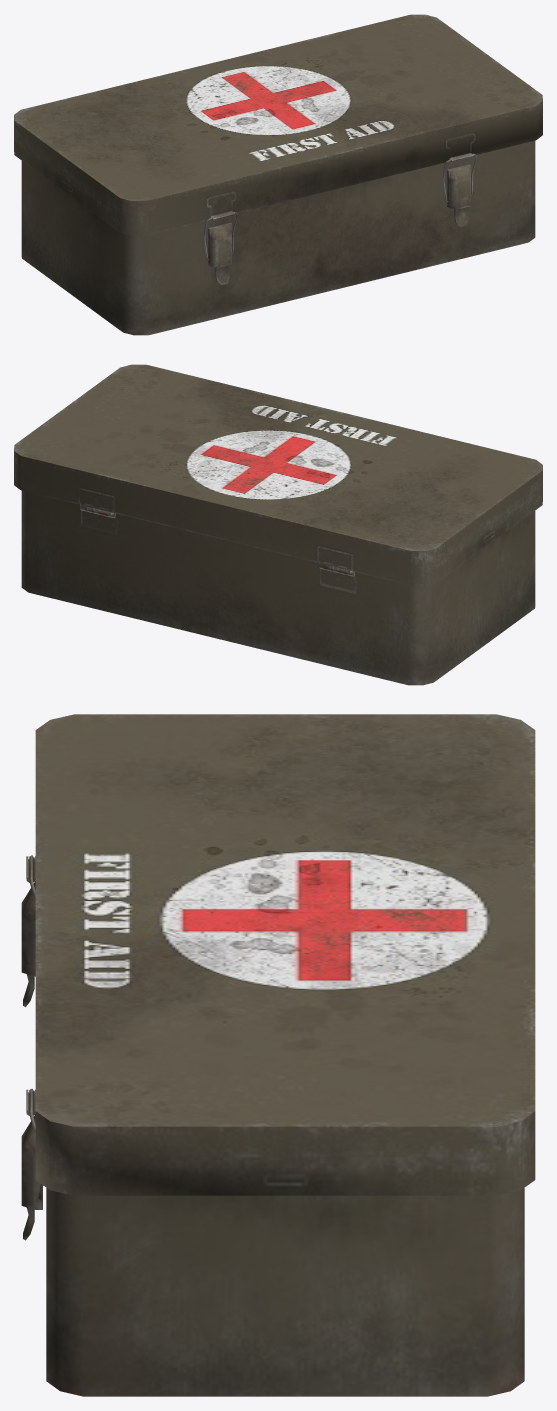
Rendered from medkit.fbx.
3 renders of one model, top to bottom at view 1: azimuth 30°, elevation 25°; view 2: azimuth 150°, elevation 25°; view 3: azimuth 270°, elevation 25°, orthographic. The views are drawn at different scales.
Parts seen in each view (by area): view 1: body_low_Plane.007, clamp1_low_Plane.013, clamp_low_Plane.010; view 2: body_low_Plane.007; view 3: body_low_Plane.007, clamp1_low_Plane.013.
Boxes of the visible parts, x1=… form: body_low_Plane.007: x1=14, y1=14, x2=542, y2=335; clamp1_low_Plane.013: x1=208, y1=164, x2=471, y2=285; clamp_low_Plane.010: x1=203, y1=153, x2=476, y2=260; body_low_Plane.007: x1=14, y1=364, x2=542, y2=685; body_low_Plane.007: x1=26, y1=714, x2=535, y2=1396; clamp1_low_Plane.013: x1=21, y1=881, x2=42, y2=1240.
Size of the model in its own units: 0.5193 by 0.1615 by 0.2734.
